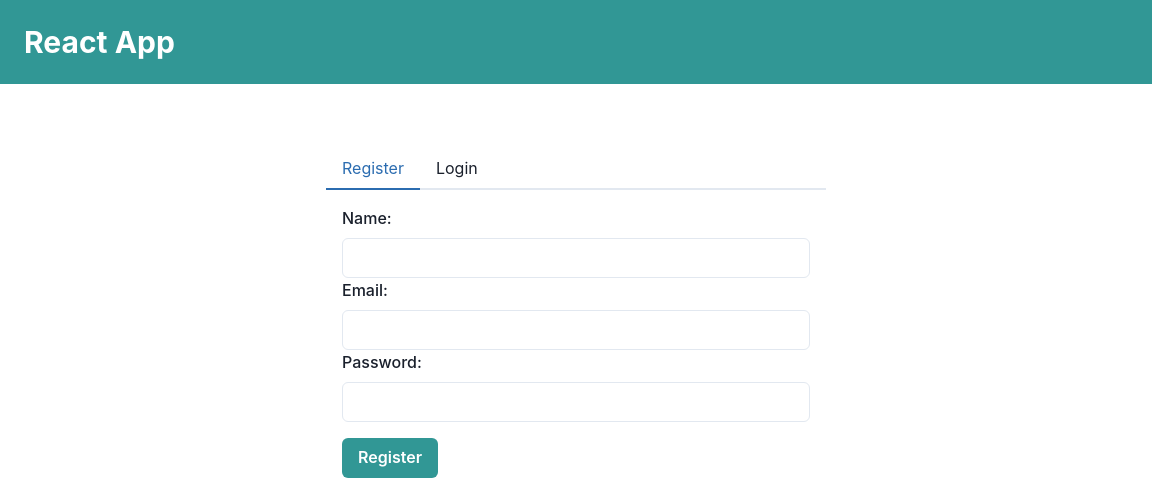
Unauthenticated › shows tabs with form
This screenshot has width=1152, height=495.
Check: the form with test id "register" is shown, box top-left (342, 206), bottom-right (810, 478)
Click the tab "Login". click: (457, 169)
box: top-left (420, 148), bottom-right (494, 190)
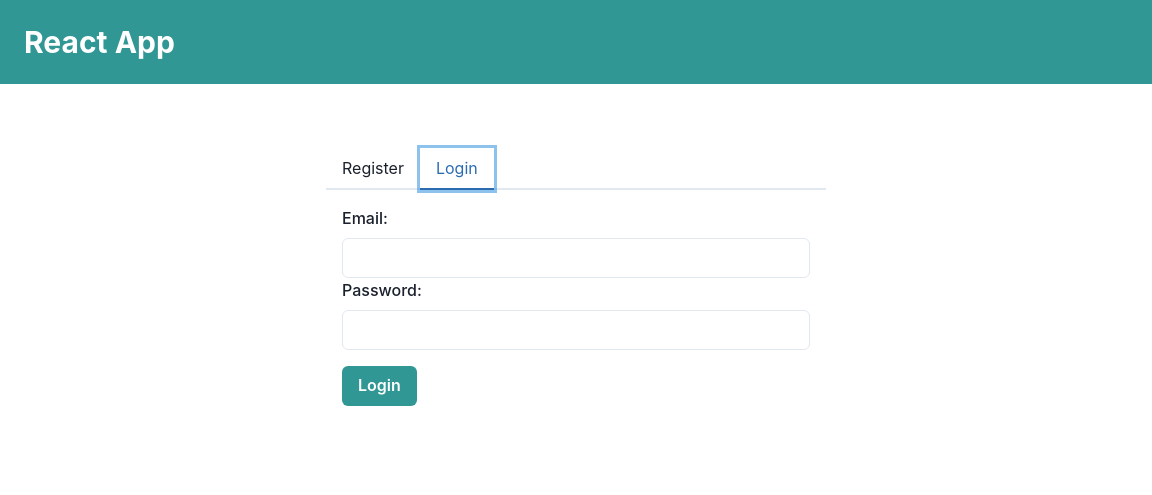
Check: the form with test id "register" is gone
Check: the form with test id "login" is shown, box top-left (342, 206), bottom-right (810, 406)
